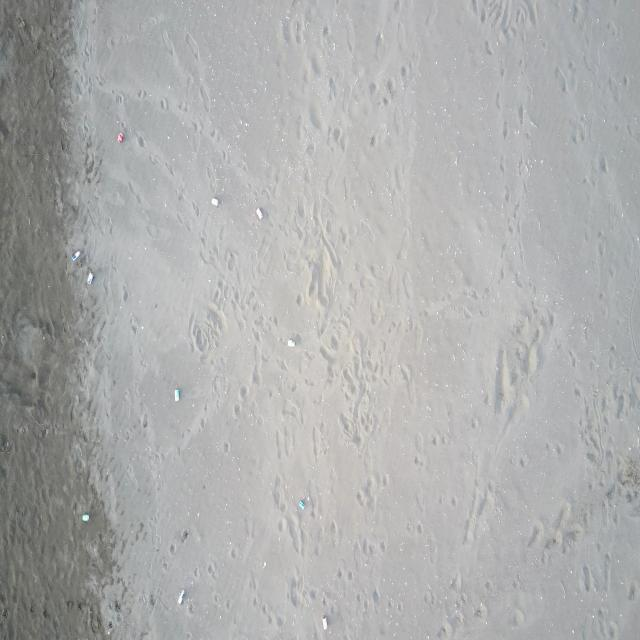tin-and-aluminum-cans: (86, 270, 94, 286), (71, 249, 81, 261), (178, 589, 185, 605), (210, 197, 220, 208), (256, 208, 264, 220), (174, 385, 179, 403), (286, 339, 296, 348), (82, 512, 90, 523), (322, 616, 328, 630), (298, 498, 305, 510), (117, 132, 123, 144)
